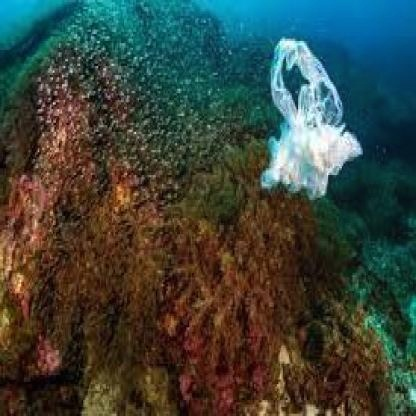pbag: (253, 32, 366, 200)
